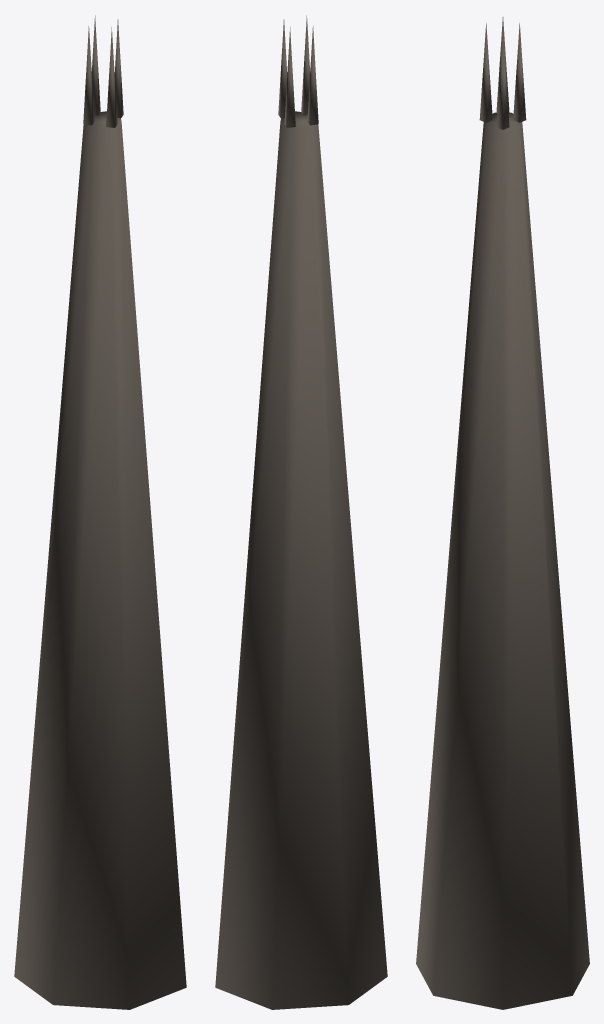
Rendered from ambient_tree_32.glb.
The picture shows the model from 3 angles, left to right: view 1: azimuth 30°, elevation 25°; view 2: azimuth 150°, elevation 25°; view 3: azimuth 270°, elevation 25°; orthographic projection.
Visible parts, largest first — view 1: ambient_tree_32; view 2: ambient_tree_32; view 3: ambient_tree_32.
Part boxes in pixels (box(x1,y1,x2,y2)): ambient_tree_32: box(14, 15, 186, 1009); ambient_tree_32: box(215, 15, 387, 1009); ambient_tree_32: box(416, 17, 589, 1009).
Bounding box in the file's own units: 1.55 × 9.6 × 1.59.
Materials: 1 (1 with a texture image).
